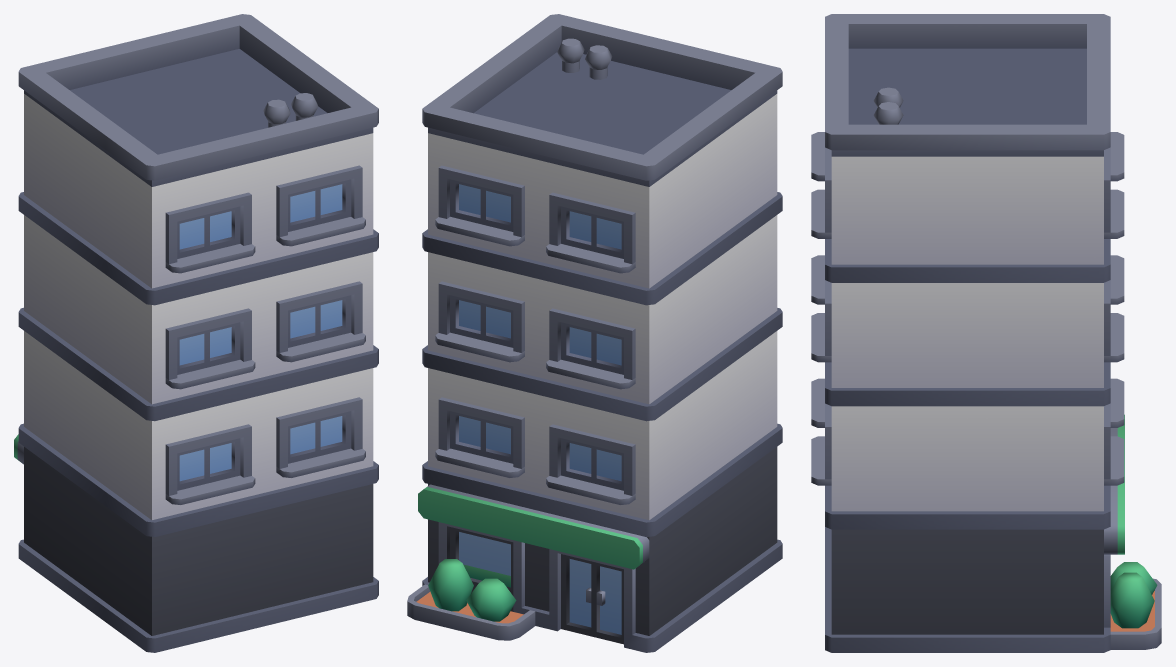
The model's file is building-f.glb.
The picture shows the model from 3 angles, left to right: view 1: azimuth 30°, elevation 25°; view 2: azimuth 150°, elevation 25°; view 3: azimuth 270°, elevation 25°; orthographic projection. The views are drawn at different scales.
Parts seen in each view (by area): view 1: building-f; view 2: building-f; view 3: building-f.
Part boxes in pixels (box(x1,y1,x2,y2)): building-f: box(14, 14, 378, 652); building-f: box(407, 14, 782, 652); building-f: box(811, 14, 1161, 652).
Bounding box in the file's own units: 0.84 × 1.69 × 1.03.
Materials: 1 (1 with a texture image).
